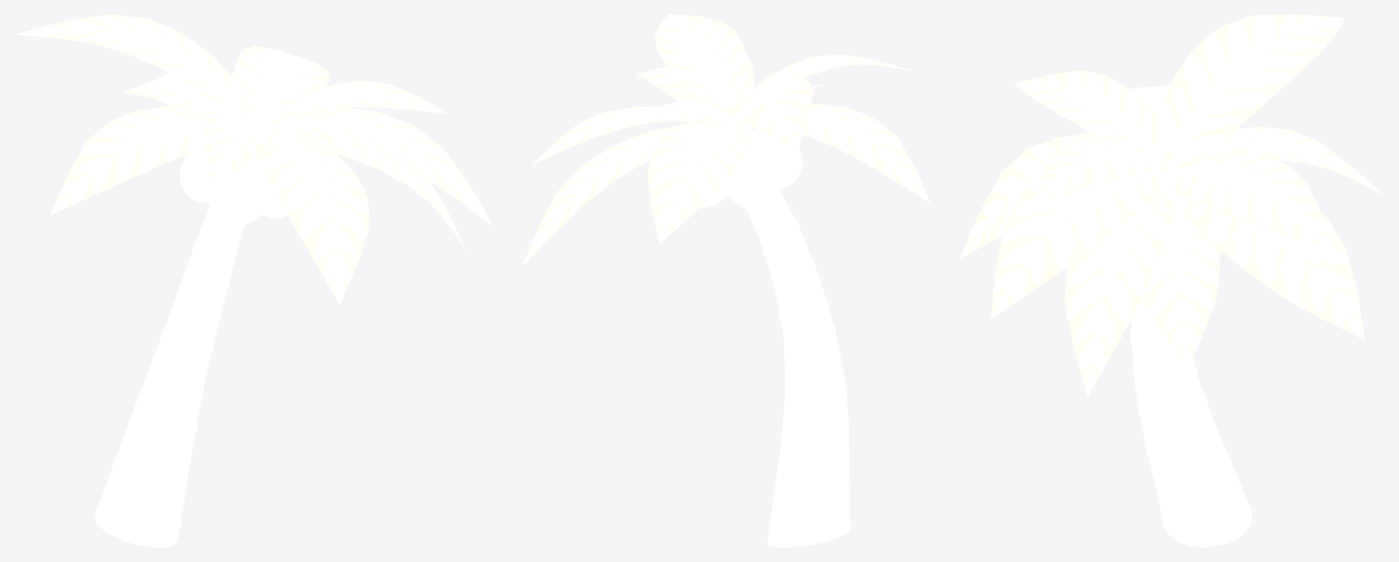
File: palmTree3.gltf
The picture shows the model from 3 angles, left to right: view 1: azimuth 30°, elevation 25°; view 2: azimuth 150°, elevation 25°; view 3: azimuth 270°, elevation 25°; orthographic projection. The views are drawn at different scales.
Parts seen in each view (by area): view 1: palm_tree1; view 2: palm_tree1; view 3: palm_tree1.
Part boxes in pixels (left/top/right/bottom): palm_tree1: left=14, top=14, right=493, bottom=547; palm_tree1: left=522, top=14, right=930, bottom=547; palm_tree1: left=959, top=14, right=1383, bottom=547.
Size of the model in its own units: 12.63 by 15.52 by 11.92.
Materials: 1 (1 with a texture image).
